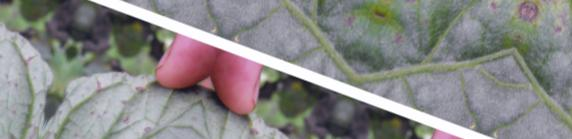Tomato Septoria leaf spot: (227, 0, 451, 76), (132, 73, 341, 139)
